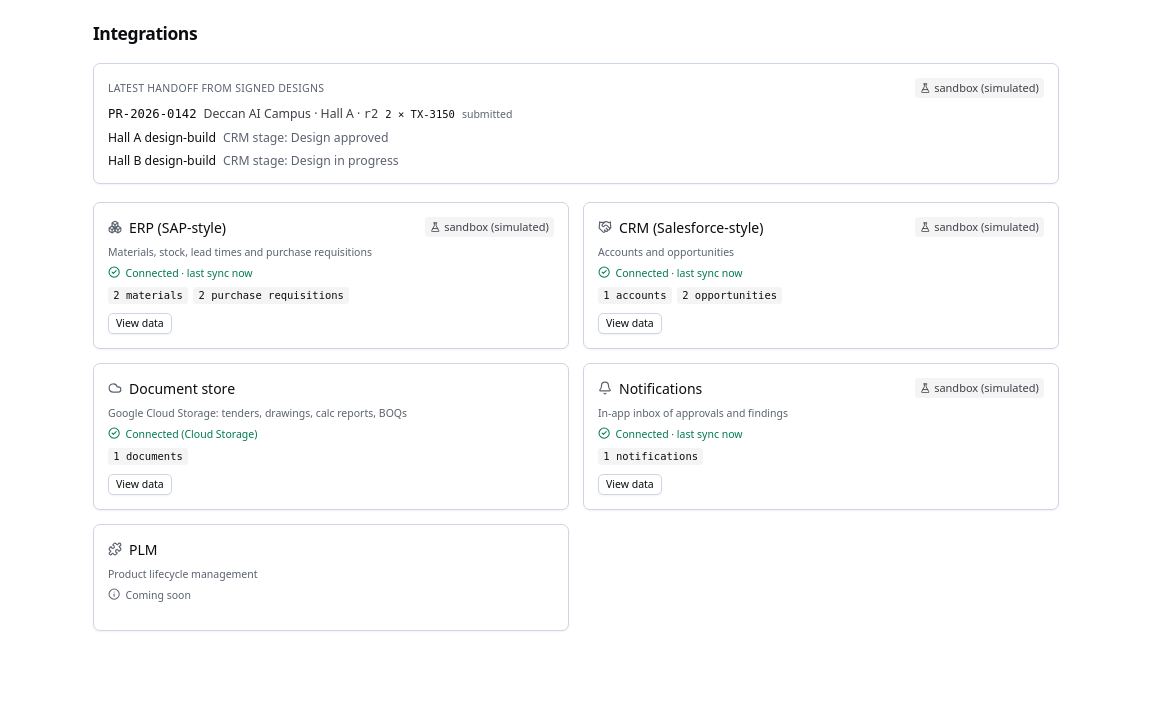
Test case: with the API up, ERP and CRM come from /api/enterprise/* and are labelled sandbox (simulated)
Check: the text "sandbox (simulated)" in the row of "ERP (SAP-style)" is shown, box [444,219,549,234]
Check: the list item "2 materials" is shown, box [108,286,188,304]
Click the button with aria-label "View data: ERP (SAP-style)".
click(140, 323)  # box [108,312,172,334]
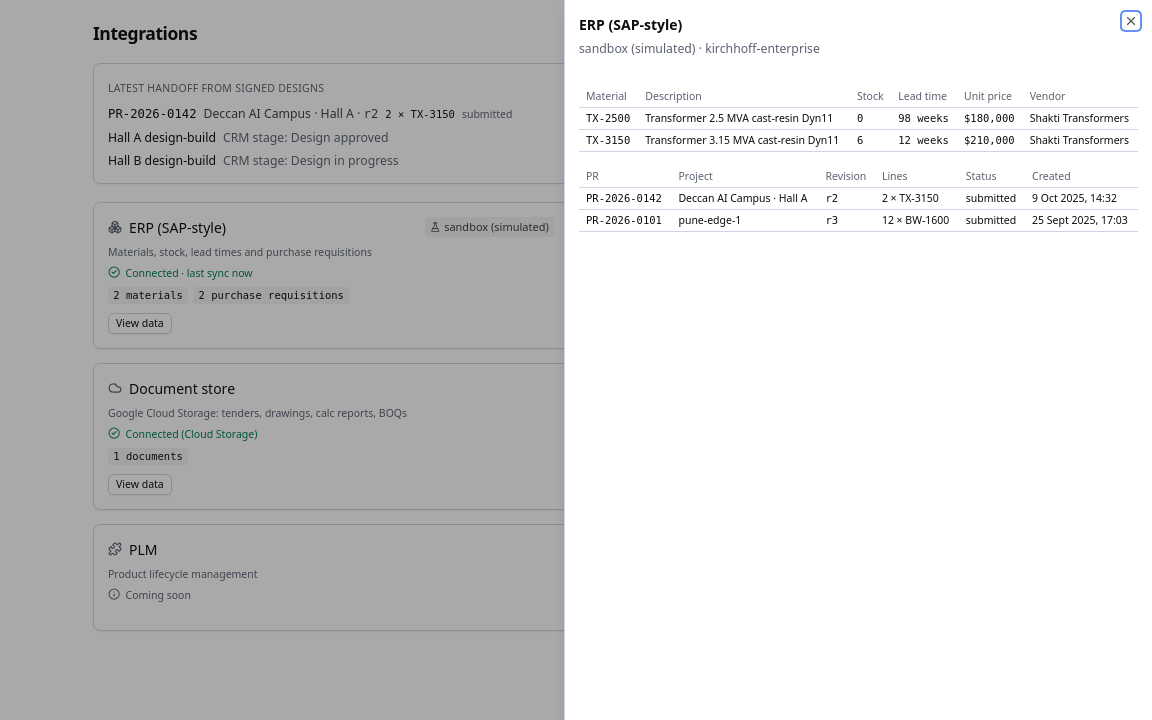
Check: the text "TX-3150" is shown, box [579,129,638,151]
Check: the text "98 weeks" is shown, box [898,112,949,124]
